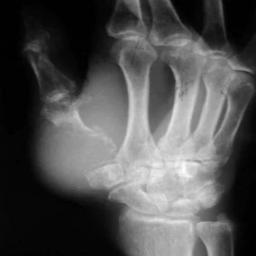cancer: (41, 119, 122, 189)
